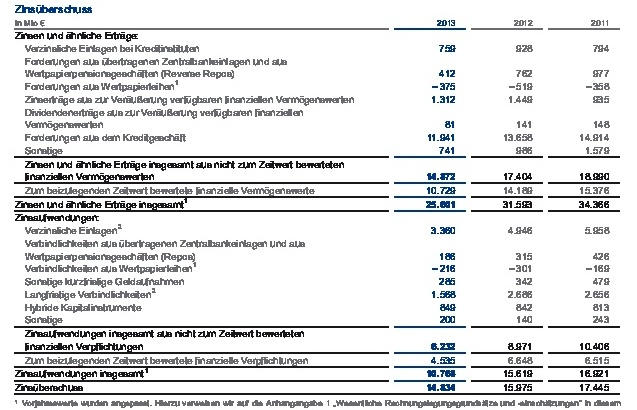table: (0, 0, 637, 410)
